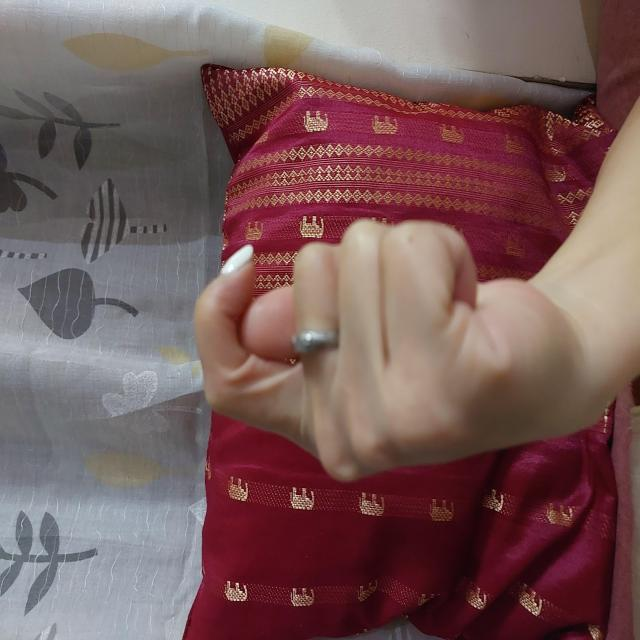T: (154, 191, 426, 585)
